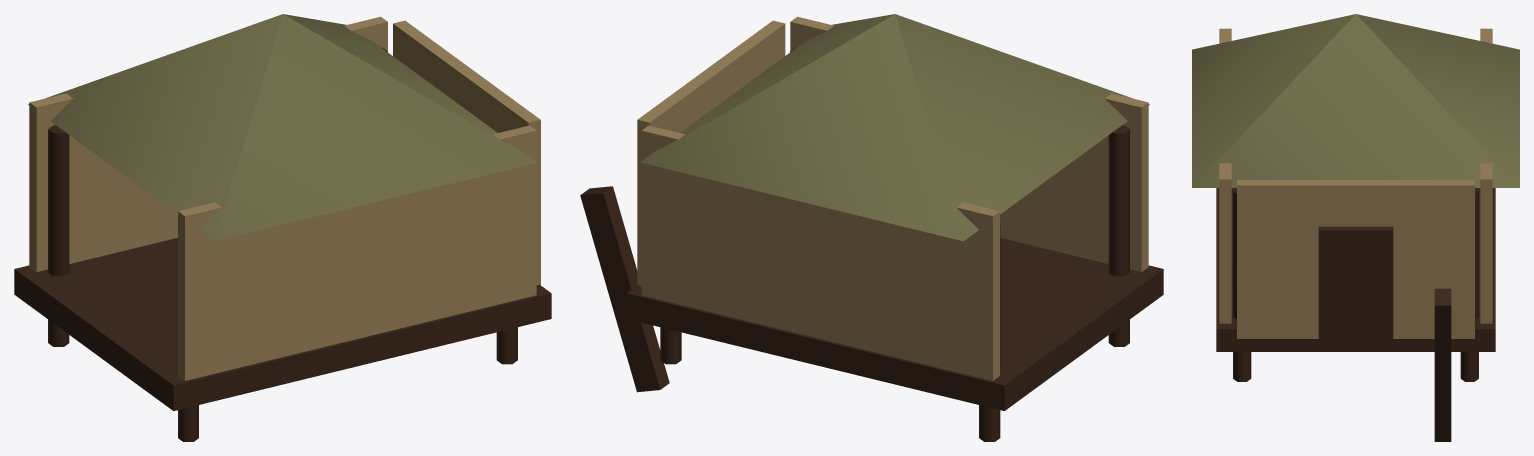
The model's file is village-hut.glb.
3 renders of one model, left to right at view 1: azimuth 30°, elevation 25°; view 2: azimuth 150°, elevation 25°; view 3: azimuth 270°, elevation 25°, orthographic. The views are drawn at different scales.
Parts seen in each view (by area): view 1: thatchRoof, wallLeft, raisedFloor, wallRight, frontWall, postRR, postFL, postRL; view 2: thatchRoof, wallRight, raisedFloor, wallLeft, frontWall, ladder, postRL, postRR, postFR; view 3: thatchRoof, frontWall, door, raisedFloor, ladder, wallLeft, wallRight, postFL, postFR.
Part boxes in pixels (left/top/right/bottom): thatchRoof: left=28, top=14, right=537, bottom=241; wallLeft: left=178, top=125, right=536, bottom=380; raisedFloor: left=14, top=238, right=551, bottom=410; wallRight: left=29, top=16, right=387, bottom=271; frontWall: left=393, top=20, right=540, bottom=285; postRR: left=48, top=125, right=69, bottom=346; postFL: left=496, top=327, right=517, bottom=364; postRL: left=178, top=405, right=198, bottom=441; thatchRoof: left=640, top=14, right=1149, bottom=241; wallRight: left=641, top=125, right=999, bottom=380; raisedFloor: left=626, top=238, right=1163, bottom=410; wallLeft: left=790, top=16, right=1148, bottom=271; frontWall: left=637, top=20, right=785, bottom=285; ladder: left=580, top=186, right=669, bottom=392; postRL: left=1108, top=125, right=1129, bottom=346; postRR: left=979, top=224, right=1000, bottom=441; postFR: left=660, top=327, right=681, bottom=364; thatchRoof: left=1192, top=14, right=1519, bottom=187; frontWall: left=1237, top=180, right=1474, bottom=338; door: left=1318, top=226, right=1393, bottom=346; raisedFloor: left=1216, top=188, right=1495, bottom=351; ladder: left=1434, top=288, right=1451, bottom=441; wallLeft: left=1219, top=28, right=1231, bottom=323; wallRight: left=1480, top=28, right=1492, bottom=323; postFL: left=1233, top=188, right=1251, bottom=381; postFR: left=1460, top=188, right=1478, bottom=381.
Size of the model in its own units: 2.2 by 1.82 by 1.58.
